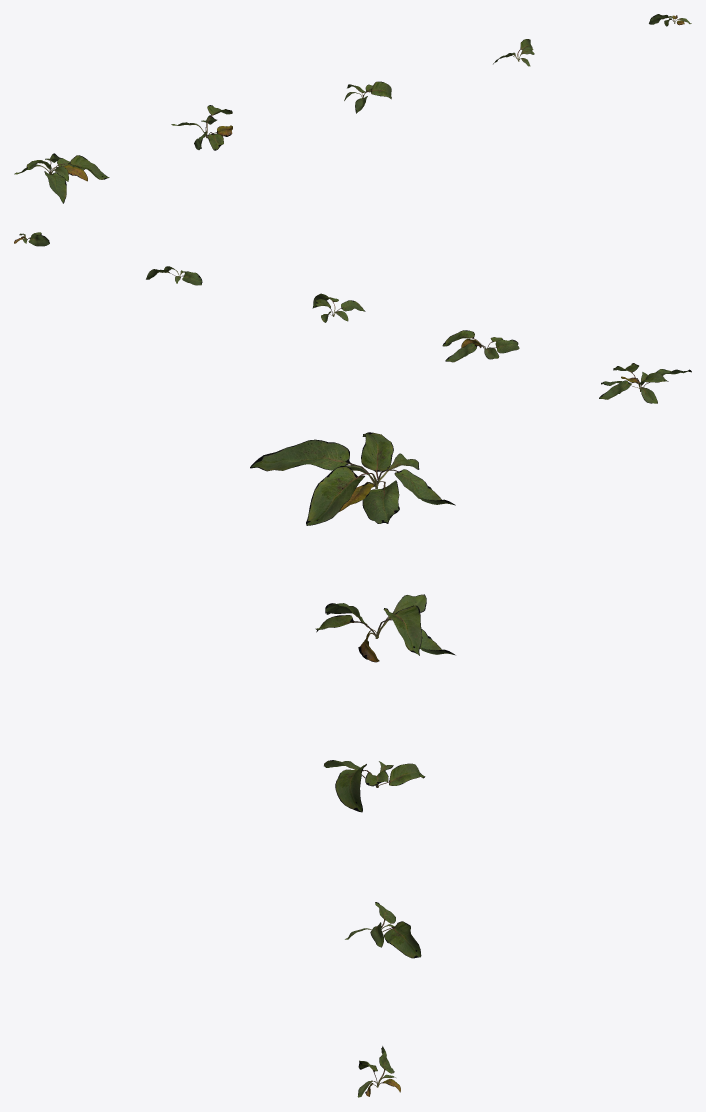
File: weed_plant_02_leaf.glb
3 views of the same model, one above another, from view 1: azimuth 30°, elevation 25°; view 2: azimuth 150°, elevation 25°; view 3: azimuth 270°, elevation 25° (orthographic). The views are drawn at different scales.
Visible parts, largest first — view 1: weed_plant_02_a_LOD0, weed_plant_02_b_LOD0, weed_plant_02_c_LOD0, weed_plant_02_d_LOD0; view 2: weed_plant_02_a_LOD0, weed_plant_02_b_LOD0, weed_plant_02_c_LOD0, weed_plant_02_d_LOD0, weed_plant_02_e_LOD0; view 3: weed_plant_02_a_LOD0, weed_plant_02_b_LOD0, weed_plant_02_c_LOD0, weed_plant_02_d_LOD0.
Part boxes in pixels (<box>): weed_plant_02_a_LOD0: <box>14,153,109,203</box>; weed_plant_02_b_LOD0: <box>171,105,232,150</box>; weed_plant_02_c_LOD0: <box>344,81,391,113</box>; weed_plant_02_d_LOD0: <box>493,39,534,66</box>; weed_plant_02_a_LOD0: <box>599,363,691,403</box>; weed_plant_02_b_LOD0: <box>442,330,519,362</box>; weed_plant_02_c_LOD0: <box>312,293,365,322</box>; weed_plant_02_d_LOD0: <box>146,266,202,285</box>; weed_plant_02_e_LOD0: <box>14,232,49,246</box>; weed_plant_02_a_LOD0: <box>250,432,455,525</box>; weed_plant_02_b_LOD0: <box>315,594,455,662</box>; weed_plant_02_c_LOD0: <box>324,760,425,812</box>; weed_plant_02_d_LOD0: <box>345,902,421,958</box>.
Size of the model in its own units: 2.13 by 0.0751 by 0.2909.
Materials: 1 (1 with a texture image).
